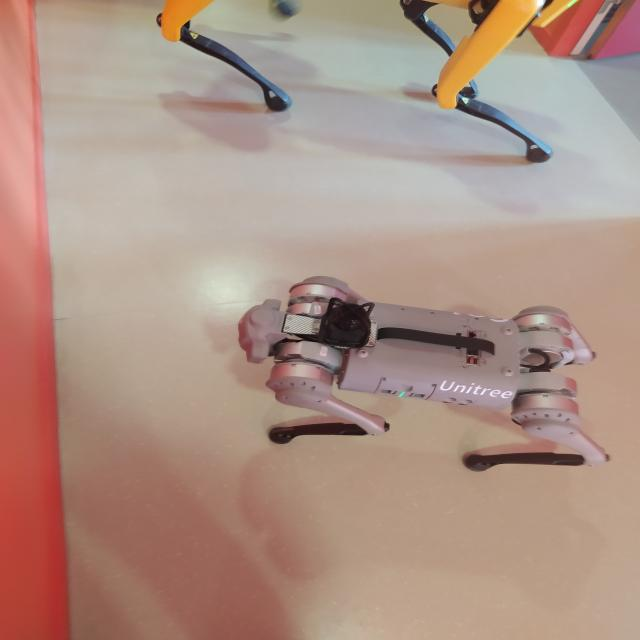unitree-go1-robot: (229, 270, 640, 487)
